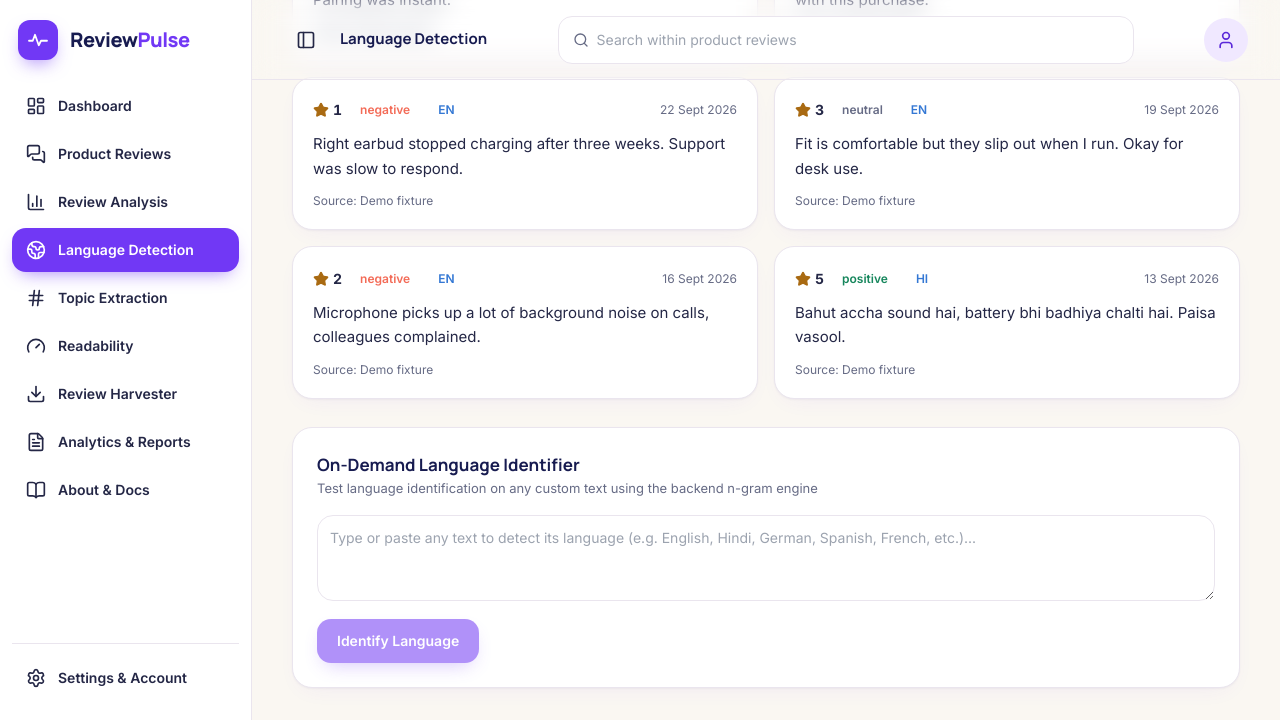
Test: Interactive On-Demand Tool Integrations › LANG-04: executes language detection mutation and displays detection metrics
(page scrolled)
Type "This is a high quality phone case." into the text box with placeholder "Type or paste any text to detect its language" at (766, 558), box [317, 515, 1215, 601]
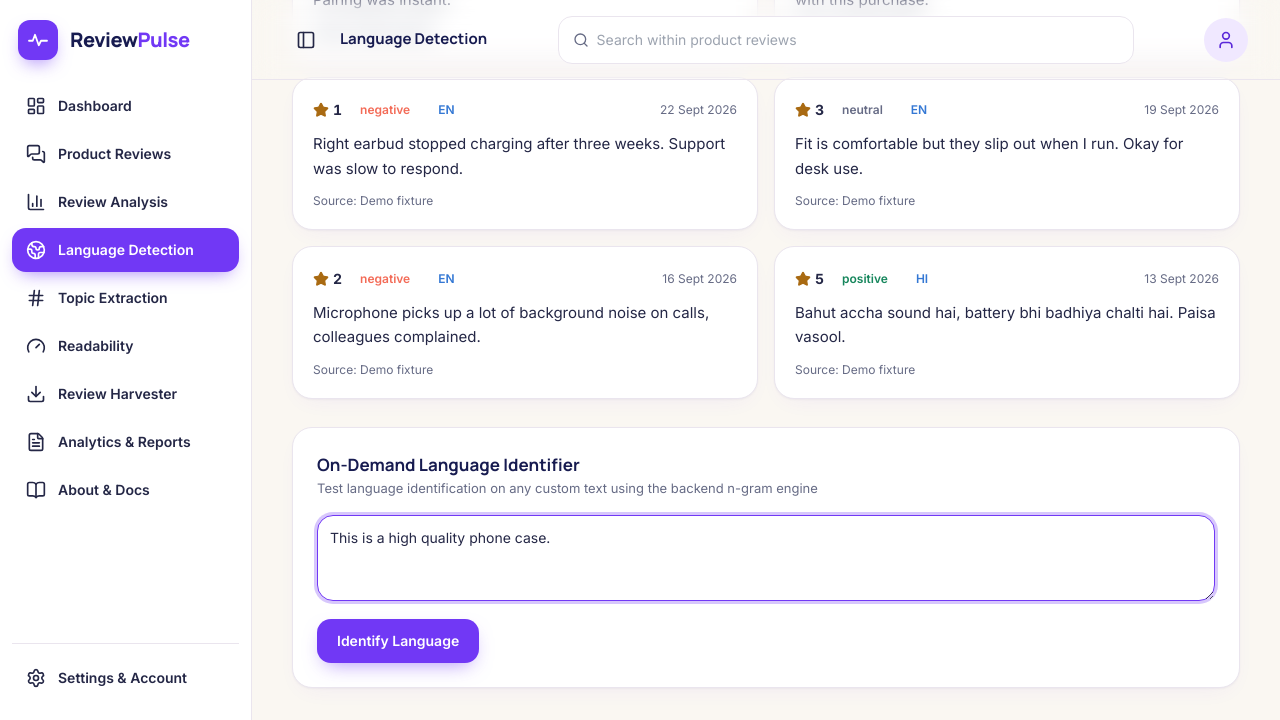
Click the button "Identify Language" at (398, 641), box [317, 619, 479, 663]
(page scrolled)
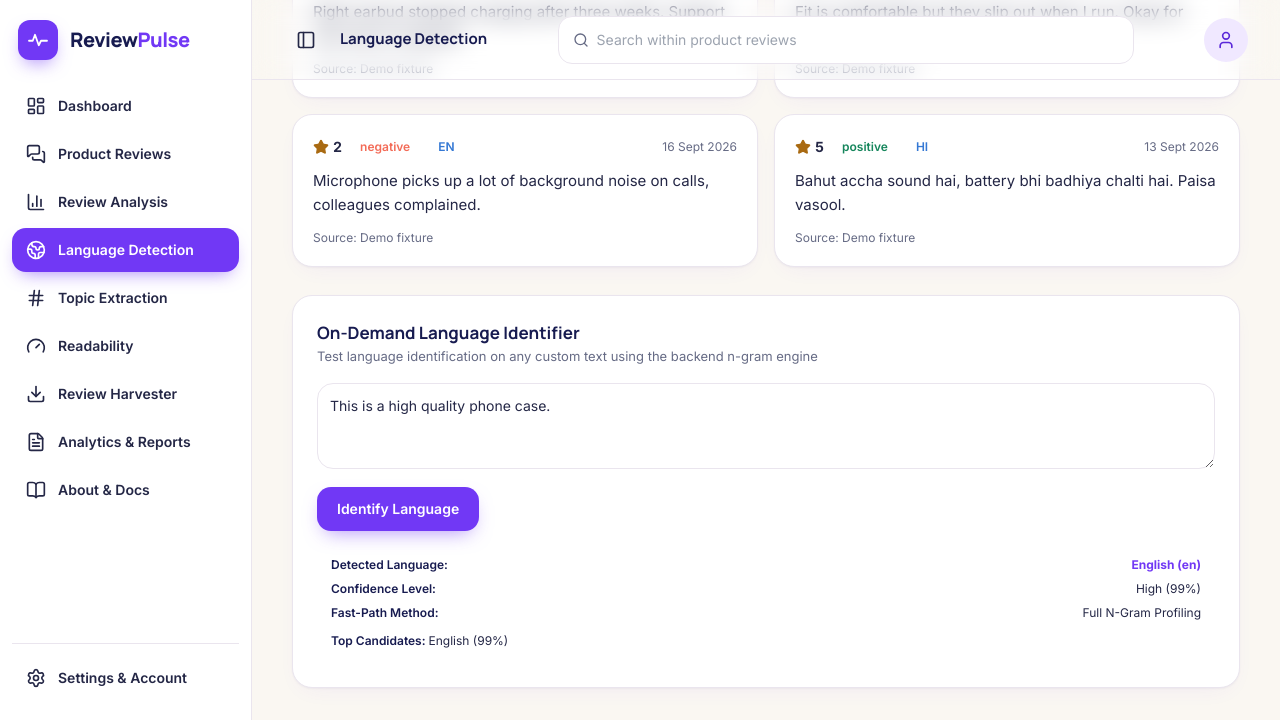
Check: the text "English (en)" is shown, box [1132, 557, 1201, 573]
Check: the text "high (99%)" is shown, box [1136, 581, 1201, 597]
Check: the text "Full N-Gram Profiling" is shown, box [1083, 605, 1201, 621]
